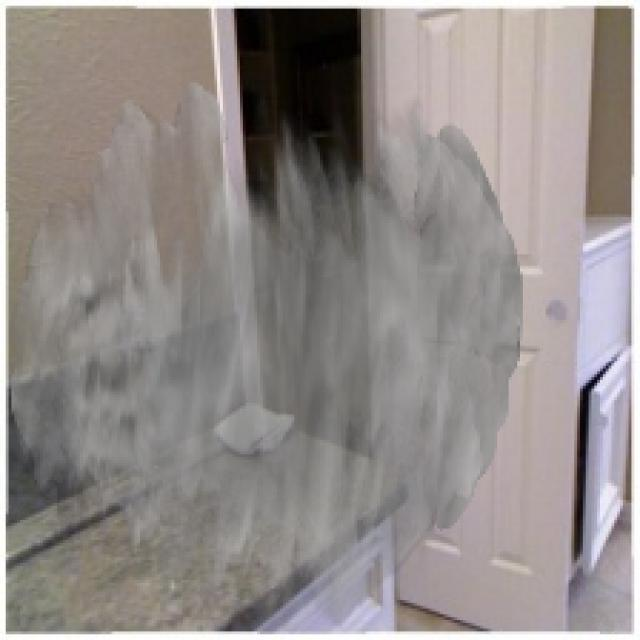Smoke: (8, 79, 523, 632)
